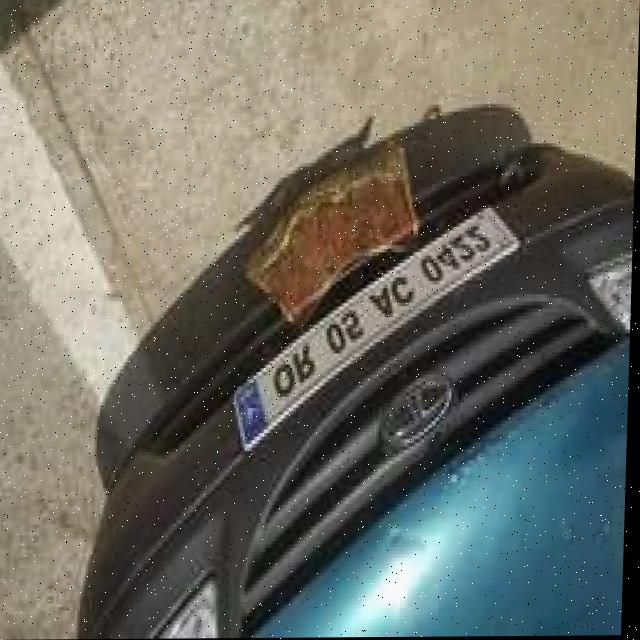plate: (229, 197, 524, 457)
